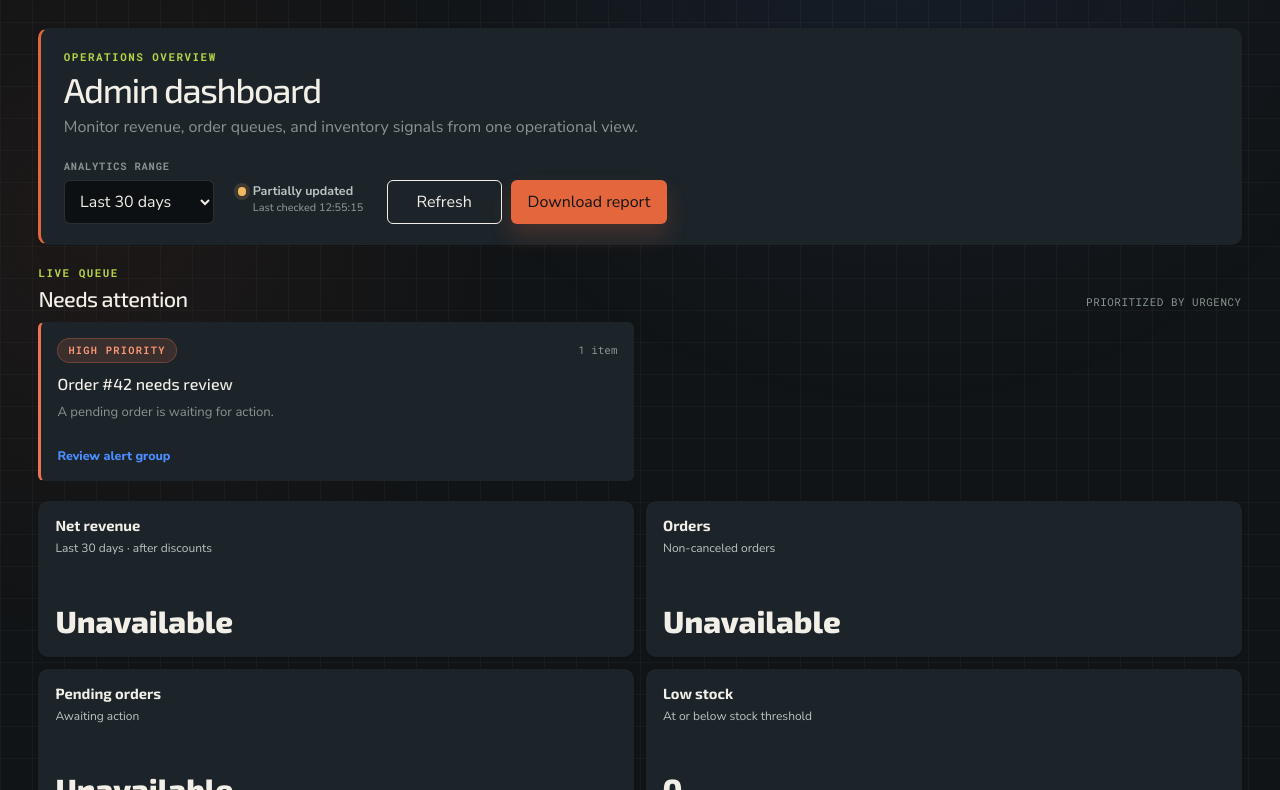
Test: AdminDashboard mixed request results › marks grouped operational alerts as read when opening their destination
Step 1. Click the link "Review alert group" → {"x": 114, "y": 456}, box [57,447,170,465]
(page scrolled)
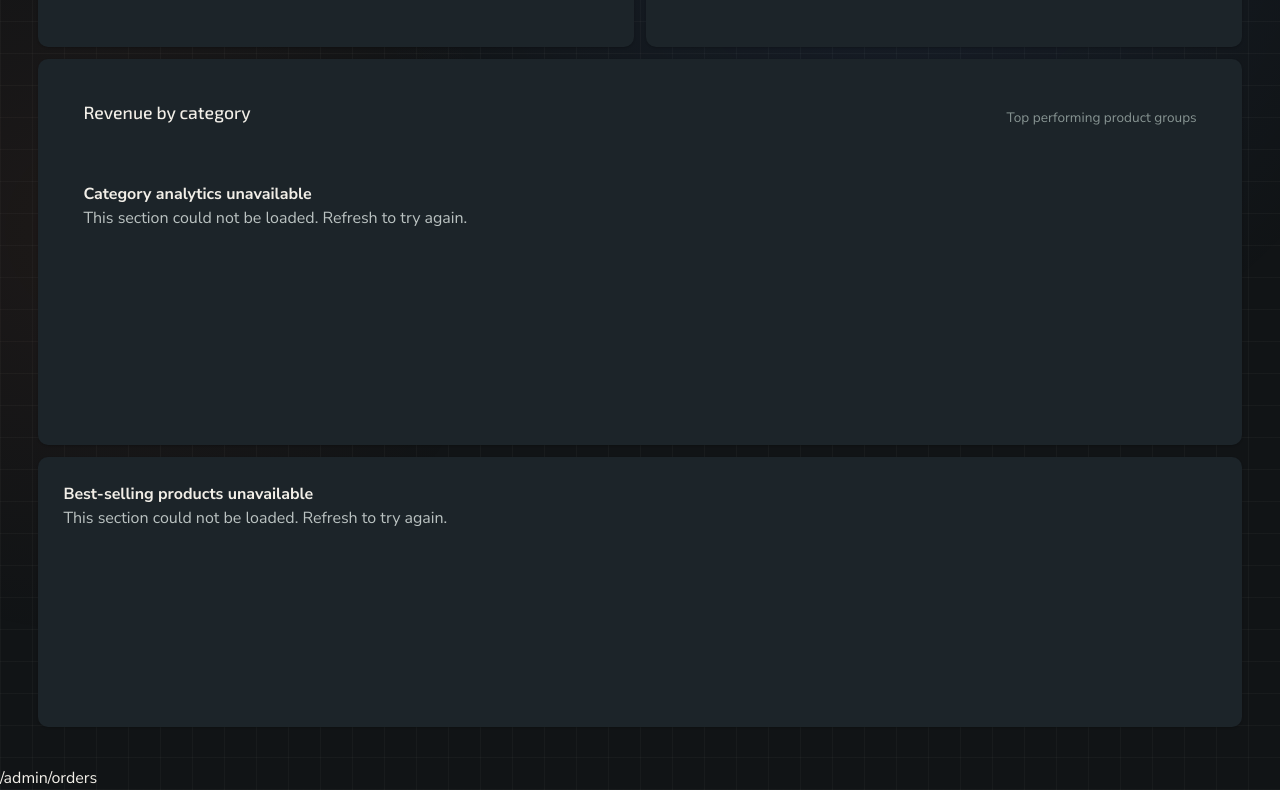
Check: the text with test id "location" reads "/admin/orders", box [0,767,97,789]
